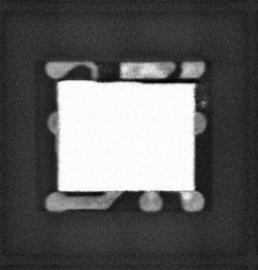DIE_BROKEN: (118, 76, 198, 85)
